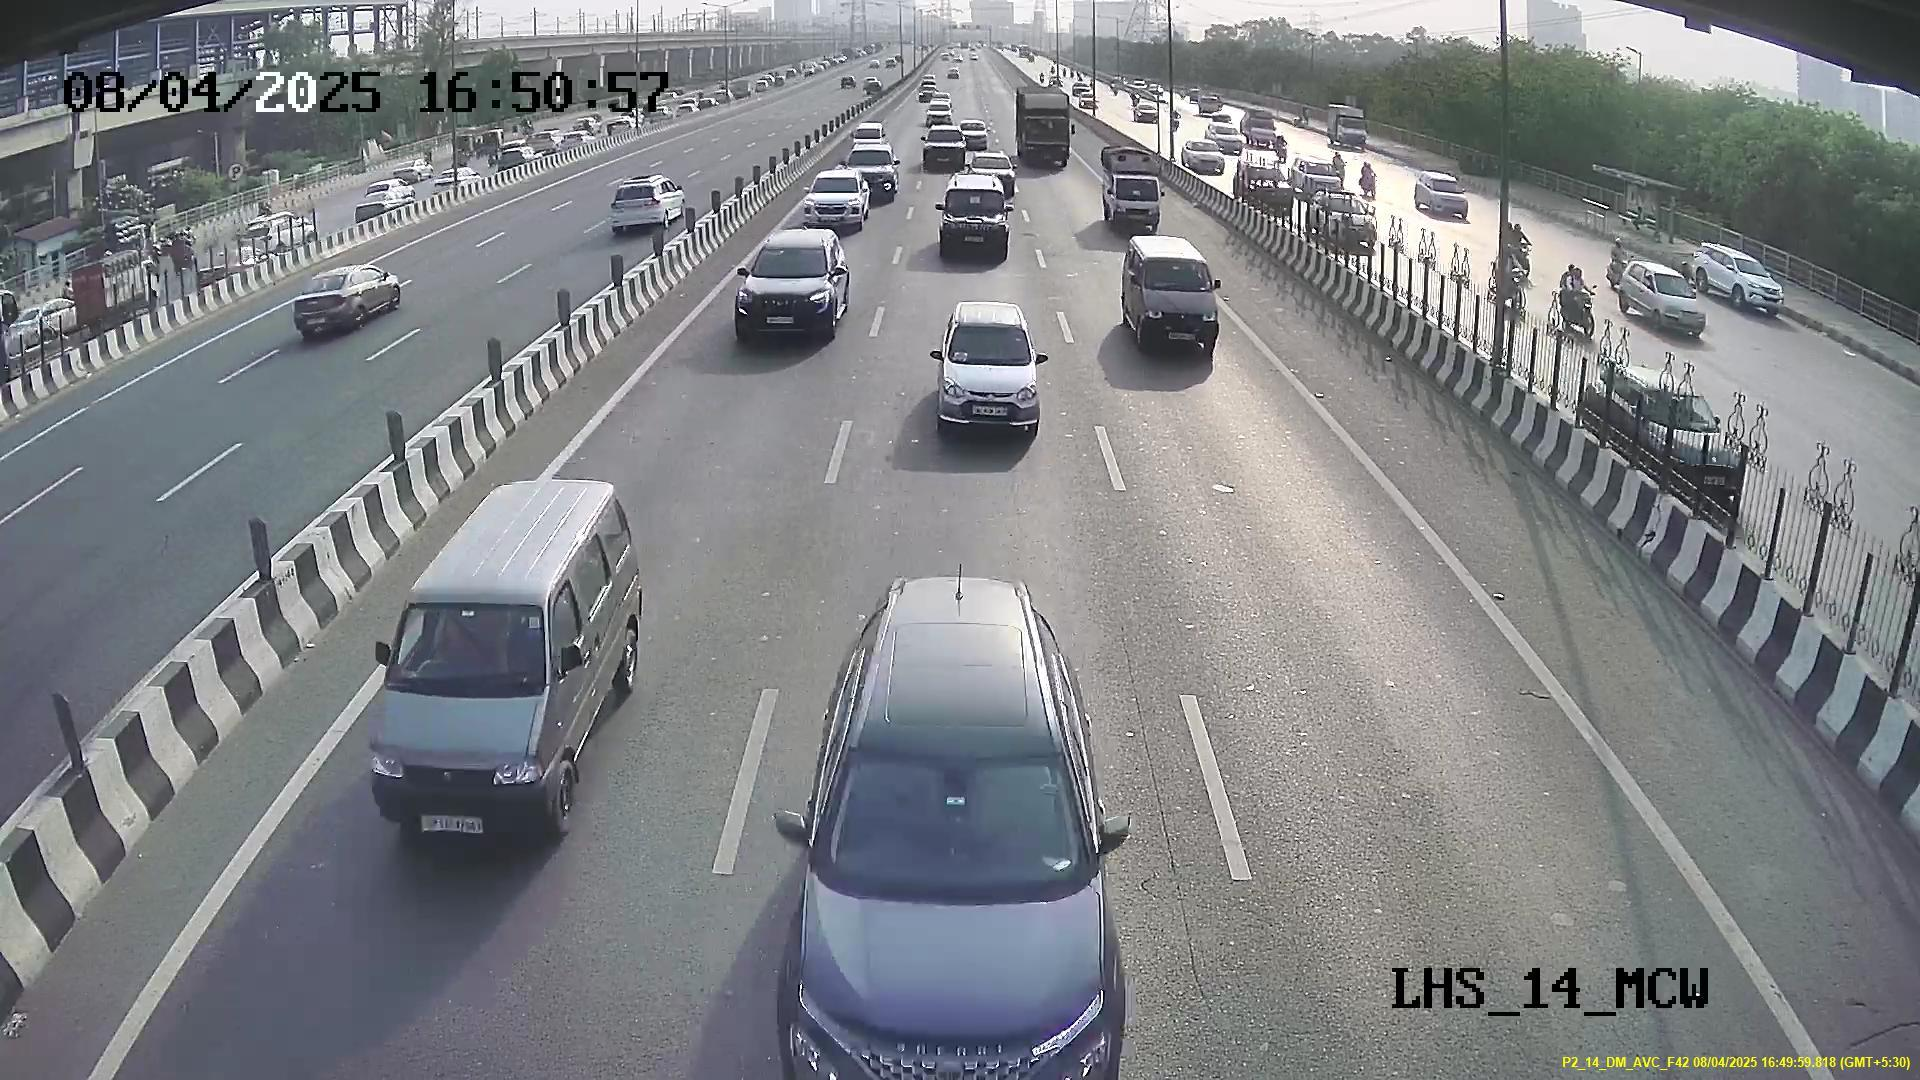car: (774, 716, 1135, 1080), (365, 545, 595, 843), (930, 315, 1042, 435), (733, 240, 848, 344), (1121, 245, 1218, 360), (936, 177, 1015, 260)
